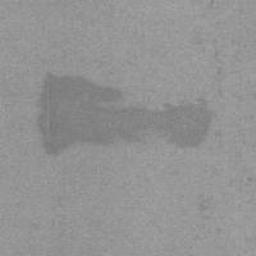Oil spot: (36, 72, 214, 156)
